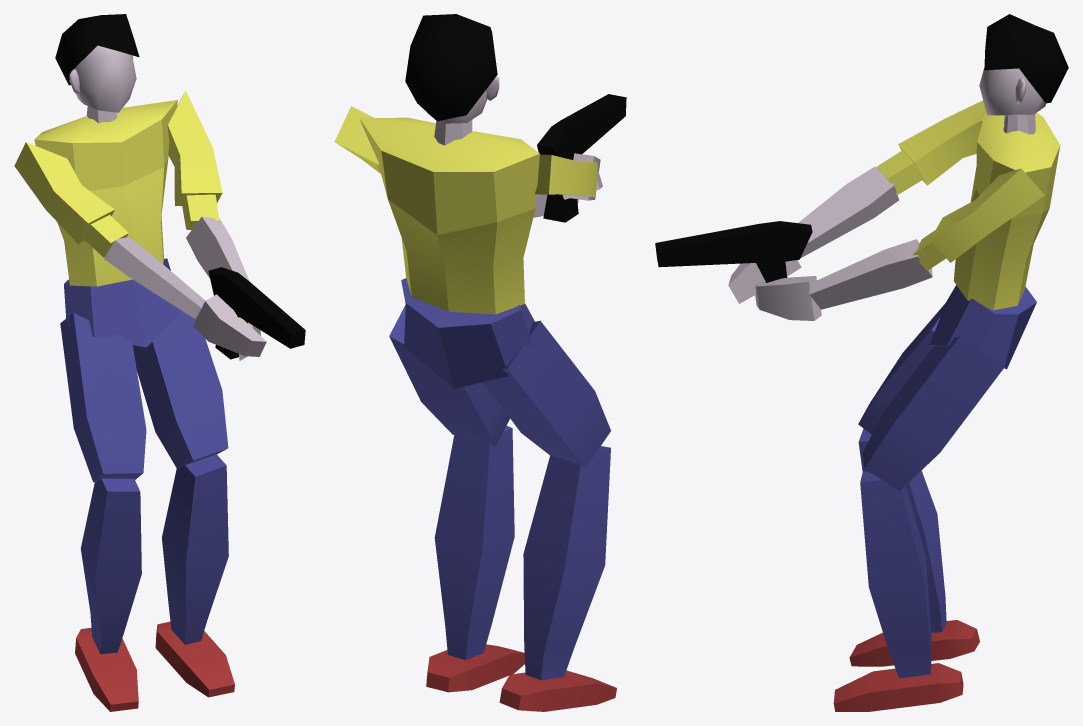
The model's file is heroAim.fbx.
3 views of the same model, side by side, from view 1: azimuth 30°, elevation 25°; view 2: azimuth 150°, elevation 25°; view 3: azimuth 270°, elevation 25° (orthographic). The views are drawn at different scales.
Visible parts, largest first — view 1: torso, D_perna01, E_perna02, E_perna01, D_perna02, D_braço01, pelvis, E_braço01, cebeca, pCube39, E_pe, D_pe (+4 smaller); view 2: torso, D_perna02, E_perna02, D_perna01, pelvis, cabelo1, E_perna01, pCube39, D_pe, E_pe, D_braço01, E_braço01 (+1 smaller); view 3: torso, E_perna01, E_perna02, pCube39, E_braço01, D_braço01, pelvis, cabelo1, E_braço02, E_pe, D_braço02, D_perna02 (+5 smaller).
Part boxes in pixels (bbox=[...]): torso: bbox=[34, 100, 177, 286]; D_perna01: bbox=[60, 312, 146, 482]; E_perna02: bbox=[162, 454, 228, 644]; E_perna01: bbox=[133, 311, 228, 468]; D_perna02: bbox=[80, 478, 141, 654]; D_braço01: bbox=[14, 142, 128, 257]; pelvis: bbox=[64, 258, 181, 347]; E_braço01: bbox=[167, 90, 222, 229]; cebeca: bbox=[69, 45, 136, 123]; pCube39: bbox=[208, 267, 305, 359]; E_pe: bbox=[155, 621, 234, 697]; D_pe: bbox=[75, 627, 138, 711]; torso: bbox=[359, 117, 539, 314]; D_perna02: bbox=[523, 446, 610, 680]; E_perna02: bbox=[434, 425, 514, 659]; D_perna01: bbox=[483, 320, 610, 467]; pelvis: bbox=[401, 278, 534, 388]; cabelo1: bbox=[405, 14, 497, 121]; E_perna01: bbox=[389, 304, 509, 447]; pCube39: bbox=[537, 94, 626, 222]; D_pe: bbox=[499, 670, 616, 711]; E_pe: bbox=[426, 644, 524, 692]; D_braço01: bbox=[535, 154, 598, 196]; E_braço01: bbox=[334, 106, 380, 173]; torso: bbox=[953, 111, 1060, 310]; E_perna01: bbox=[862, 336, 1005, 490]; E_perna02: bbox=[860, 471, 931, 678]; pCube39: bbox=[655, 221, 812, 282]; E_braço01: bbox=[913, 168, 1044, 270]; D_braço01: bbox=[876, 100, 985, 195]; pelvis: bbox=[929, 285, 1036, 369]; cabelo1: bbox=[984, 14, 1068, 103]; E_braço02: bbox=[809, 239, 932, 309]; E_pe: bbox=[833, 663, 963, 711]; D_braço02: bbox=[798, 166, 898, 258]; D_perna02: bbox=[858, 428, 946, 632].
Bounding box in the file's own units: 13.62 × 46.16 × 25.84.
